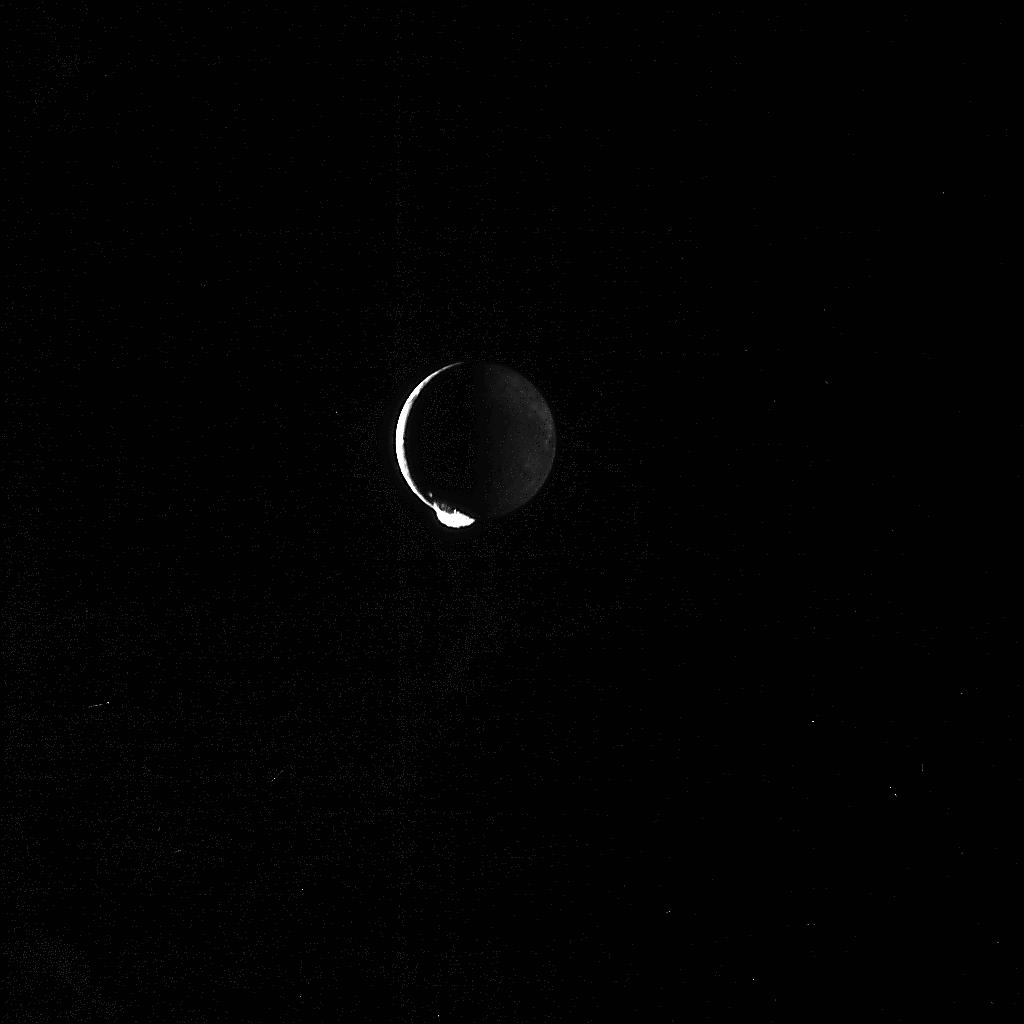plumes: (431, 504, 475, 528)
